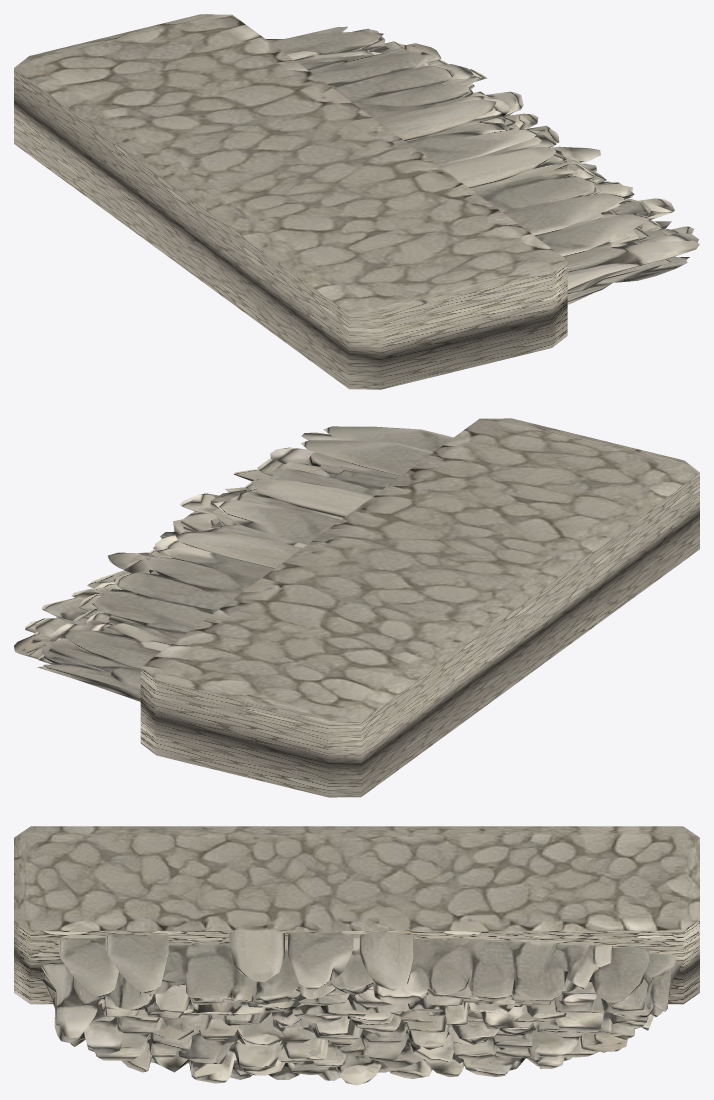
3 renders of one model, top to bottom at view 1: azimuth 30°, elevation 25°; view 2: azimuth 150°, elevation 25°; view 3: azimuth 270°, elevation 25°, orthographic. The views are drawn at different scales.
Size of the model in its own units: 0.5491 by 0.1 by 0.7996.
1 material, 1 textured.
